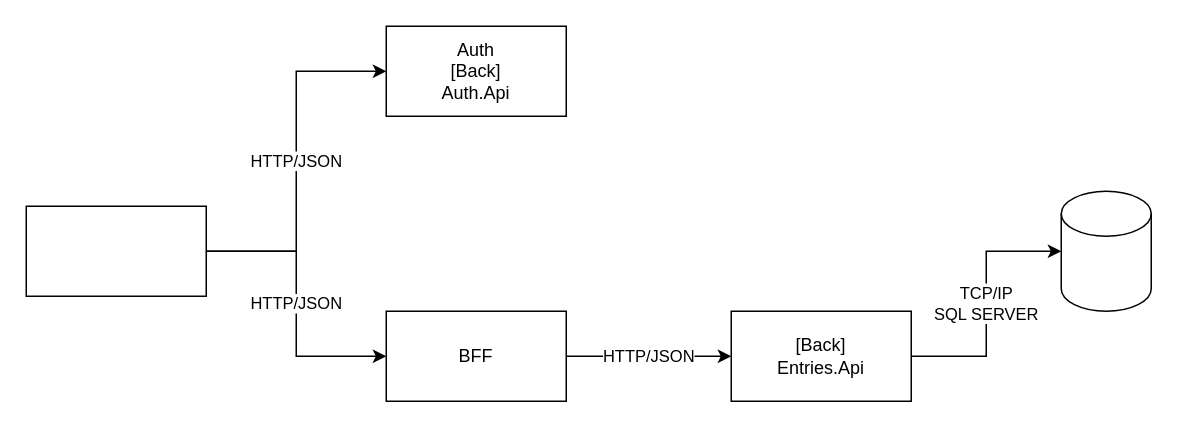
Some shapes in this 1178 by 428 pixel diagram are drawn without their labels. Each missing label, with the centre of its shape:
APP: the point at 115,250
DB: the point at 1105,250
